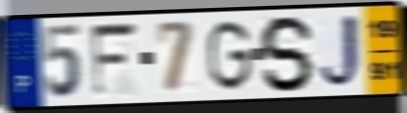5: (42, 21, 88, 102)
7: (154, 18, 200, 97)
F: (88, 19, 141, 101)
G: (206, 18, 254, 94)
J: (316, 11, 366, 92)
S: (258, 13, 318, 94)
